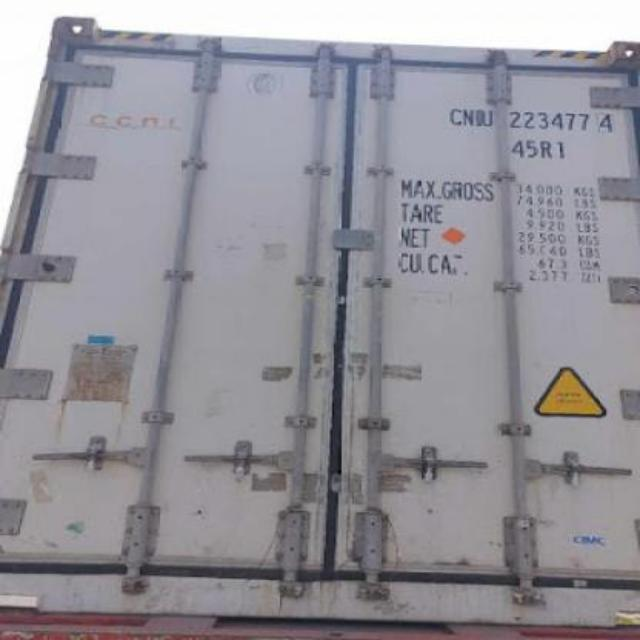2: (506, 104, 522, 132), (520, 108, 536, 130)
3: (532, 105, 550, 128)
4: (550, 106, 566, 134), (600, 111, 616, 132)
7: (578, 106, 590, 134), (566, 108, 576, 132)
C: (448, 106, 464, 128)
I: (474, 102, 484, 130)
N: (462, 104, 474, 132)
U: (480, 95, 500, 135)
